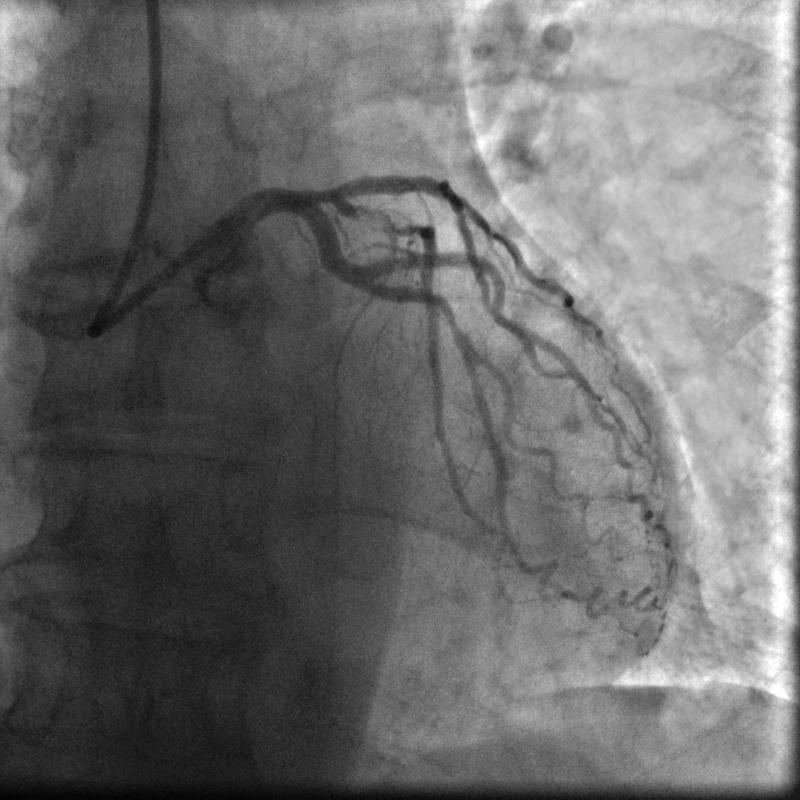Stenosis: (348, 197, 410, 240)
